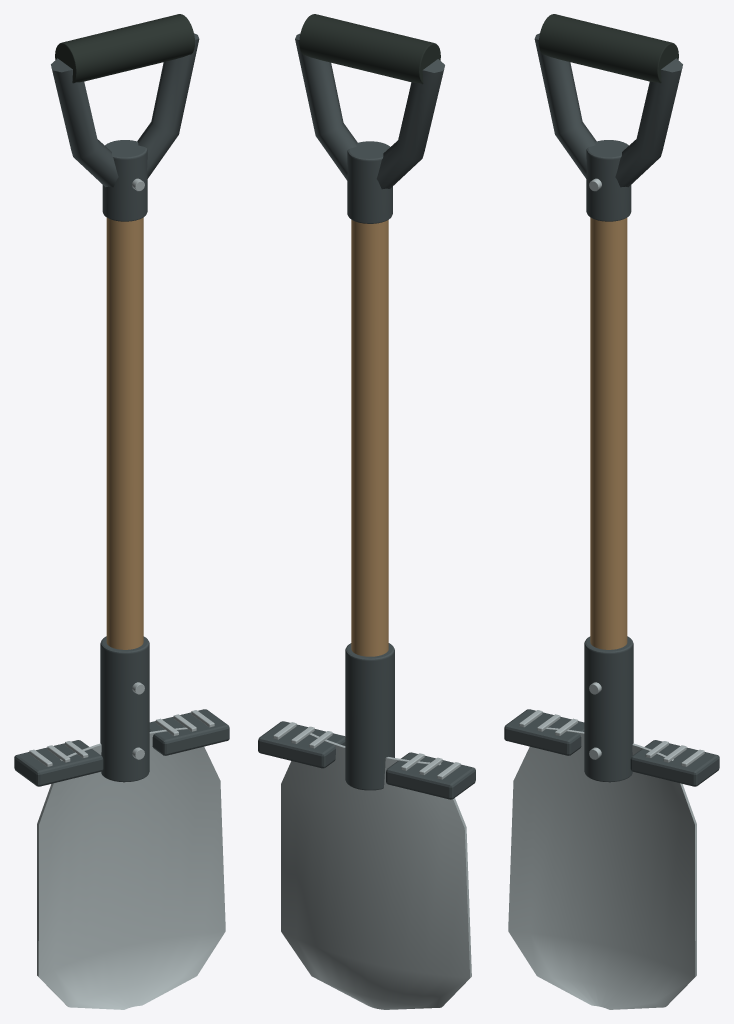
The model's file is city-garden-digging-spade.glb.
3 renders of one model, left to right at view 1: azimuth 30°, elevation 25°; view 2: azimuth 150°, elevation 25°; view 3: azimuth 330°, elevation 25°, orthographic.
Visible parts, largest first — view 1: Assembly | Satin tool steel, Assembly | Dark coated steel, Assembly | Plain wooden shaft color, Assembly | Dark matte grip; view 2: Assembly | Satin tool steel, Assembly | Dark coated steel, Assembly | Plain wooden shaft color, Assembly | Dark matte grip; view 3: Assembly | Satin tool steel, Assembly | Dark coated steel, Assembly | Plain wooden shaft color, Assembly | Dark matte grip.
Part boxes in pixels (x1,y1,x2,y2): Assembly | Satin tool steel: [29, 178, 225, 1009]; Assembly | Dark coated steel: [14, 33, 229, 786]; Assembly | Plain wooden shaft color: [106, 217, 143, 649]; Assembly | Dark matte grip: [55, 14, 194, 83]; Assembly | Satin tool steel: [273, 722, 471, 1009]; Assembly | Dark coated steel: [258, 33, 475, 799]; Assembly | Plain wooden shaft color: [351, 220, 388, 656]; Assembly | Dark matte grip: [299, 14, 440, 84]; Assembly | Satin tool steel: [508, 178, 704, 1009]; Assembly | Dark coated steel: [504, 33, 719, 786]; Assembly | Plain wooden shaft color: [590, 217, 627, 649]; Assembly | Dark matte grip: [539, 14, 678, 83].
Size of the model in its own units: 0.217 by 1.04 by 0.0595.
